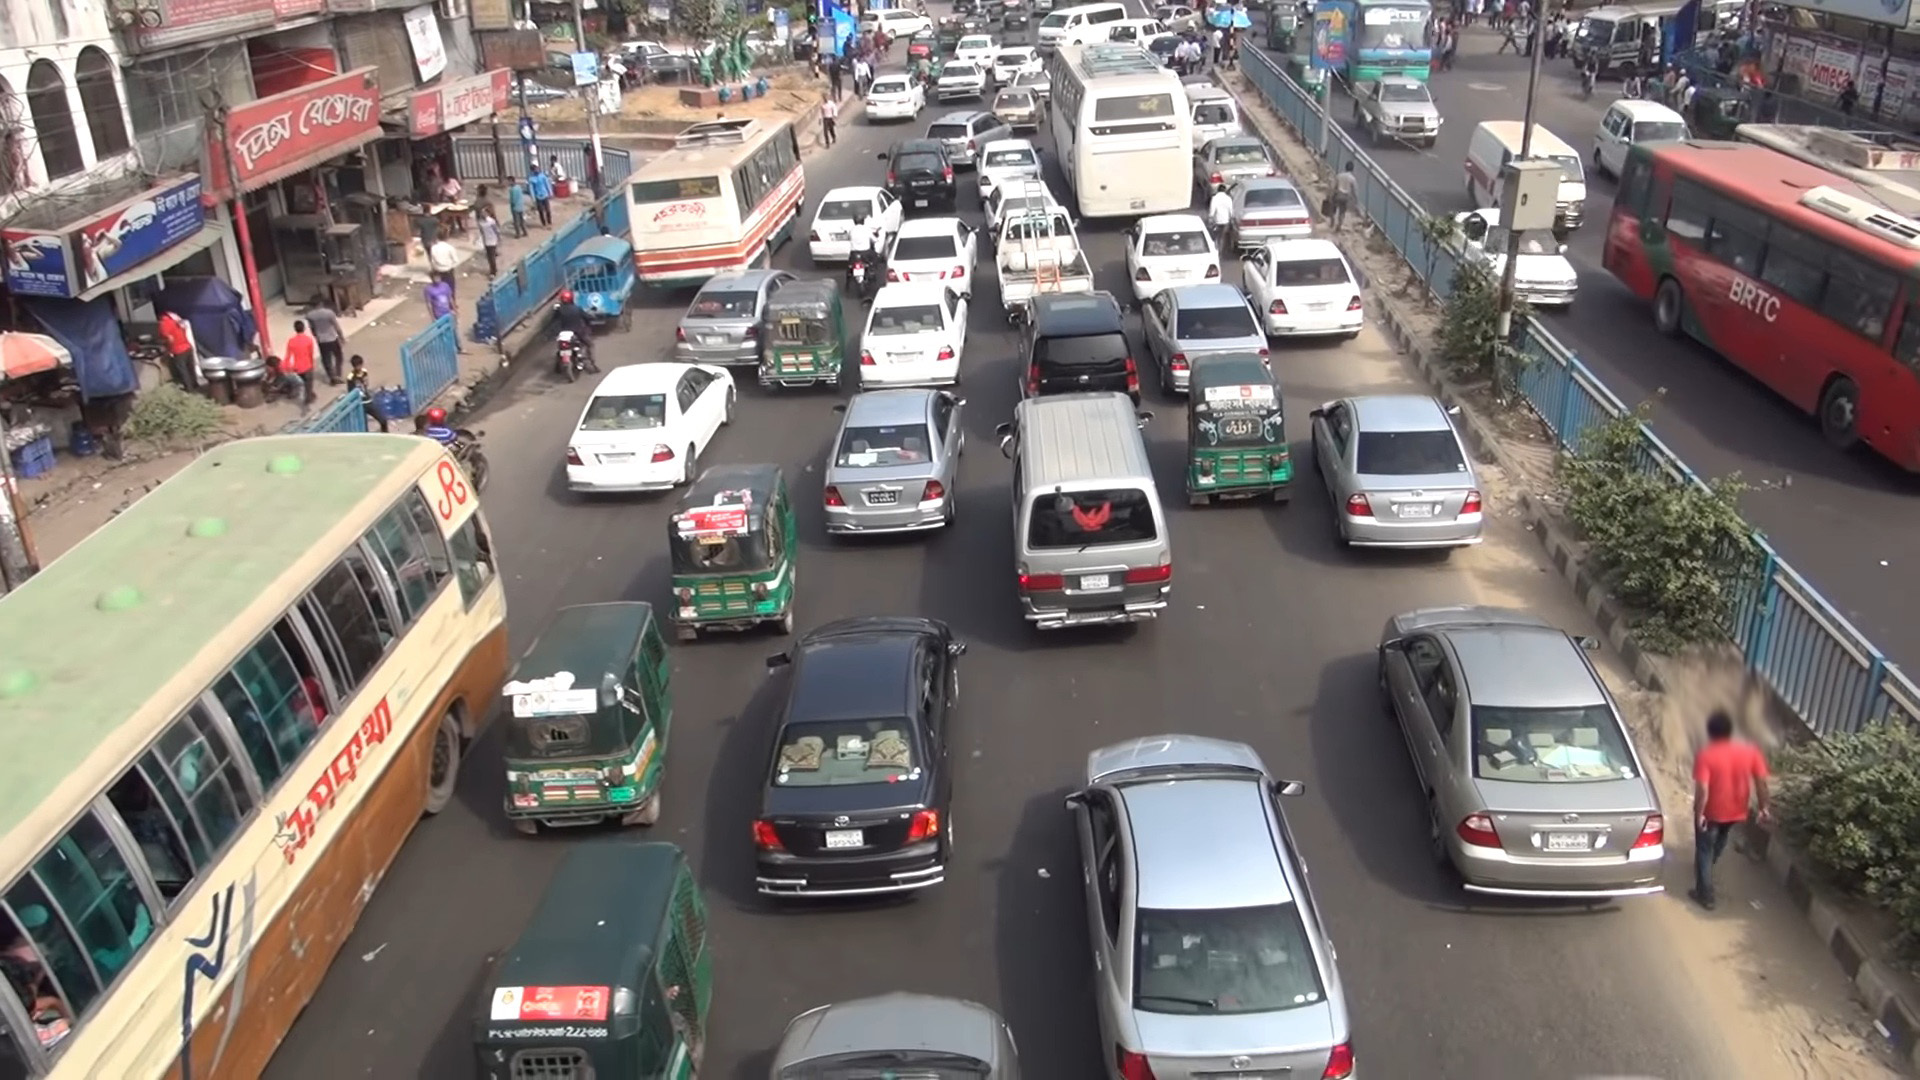bike: (553, 305, 595, 384), (454, 429, 497, 477)
bus: (1, 433, 513, 1067), (1601, 138, 1920, 487), (626, 117, 804, 295), (1048, 41, 1192, 218), (1738, 120, 1920, 216), (1571, 1, 1702, 82), (1336, 3, 1433, 91)
car: (1063, 735, 1356, 1080), (1382, 605, 1663, 899), (756, 616, 967, 895), (996, 393, 1176, 632), (1307, 393, 1487, 549), (563, 357, 738, 502), (767, 989, 1022, 1080), (820, 389, 971, 539), (1145, 284, 1276, 397), (1462, 120, 1586, 232), (1245, 237, 1367, 343), (1455, 208, 1580, 309), (861, 284, 975, 386), (674, 270, 796, 364), (1122, 208, 1224, 299), (804, 185, 907, 268), (1592, 102, 1692, 179), (1356, 74, 1447, 146), (884, 218, 984, 282), (1228, 175, 1315, 245), (928, 105, 1022, 167), (878, 138, 955, 207), (1192, 131, 1278, 191), (924, 112, 1011, 167), (972, 138, 1044, 199), (1034, 1, 1130, 40), (1113, 1, 1195, 41), (982, 185, 1063, 224), (1188, 94, 1242, 146), (861, 70, 915, 120), (862, 9, 932, 44), (934, 65, 982, 99), (957, 30, 1000, 69), (1007, 47, 1036, 82)
cng: (473, 837, 717, 1080), (501, 599, 674, 832), (665, 462, 796, 644), (1185, 353, 1290, 516), (753, 278, 847, 389), (1698, 84, 1747, 131), (1270, 9, 1305, 51)
van: (563, 237, 630, 326)
